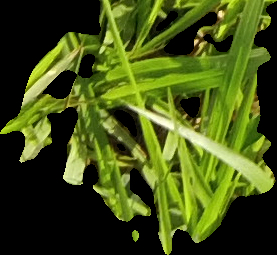grass: (1, 1, 275, 253)
